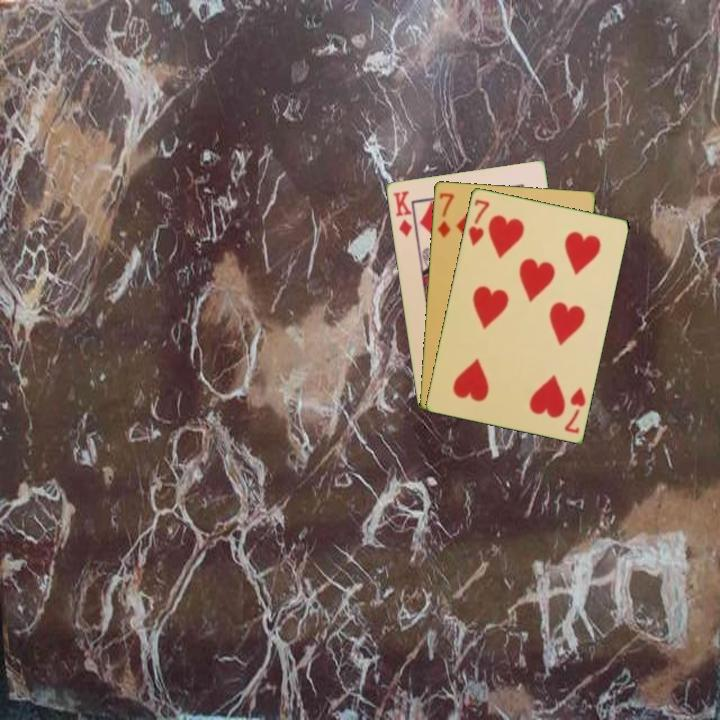7d: (434, 189, 457, 240)
7h: (465, 195, 492, 248), (561, 383, 588, 436)
Kd: (389, 187, 414, 240)
